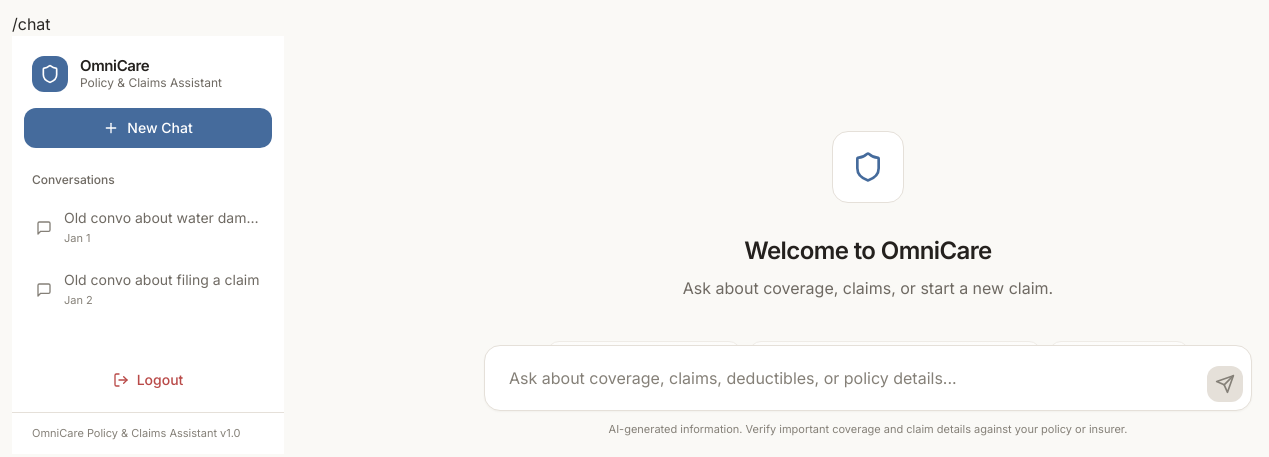
Scenario: ChatPage conversation sidebar navigation › keeps every old conversation reachable from any conversation
Click the text "Old convo about water damage".
click(162, 218)  # box x1=64 y1=208 x2=260 y2=228
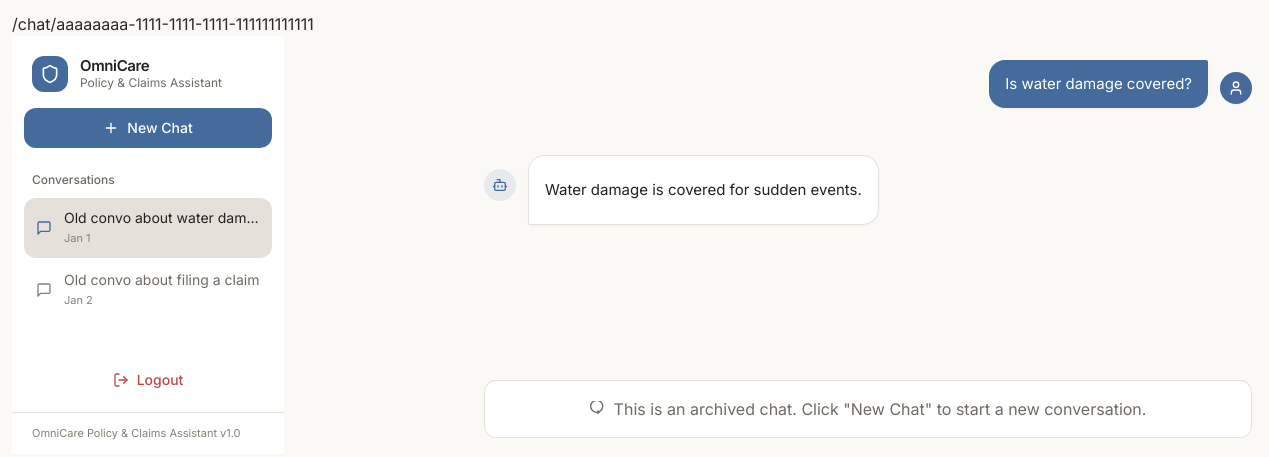
Expected: the text "Old convo about filing a claim" is shown, x1=64 y1=270 x2=260 y2=290
Result: the text with test id "current-path" reads "/chat/aaaaaaaa-1111-1111-1111-111111111111" at x1=12 y1=14 x2=314 y2=34
